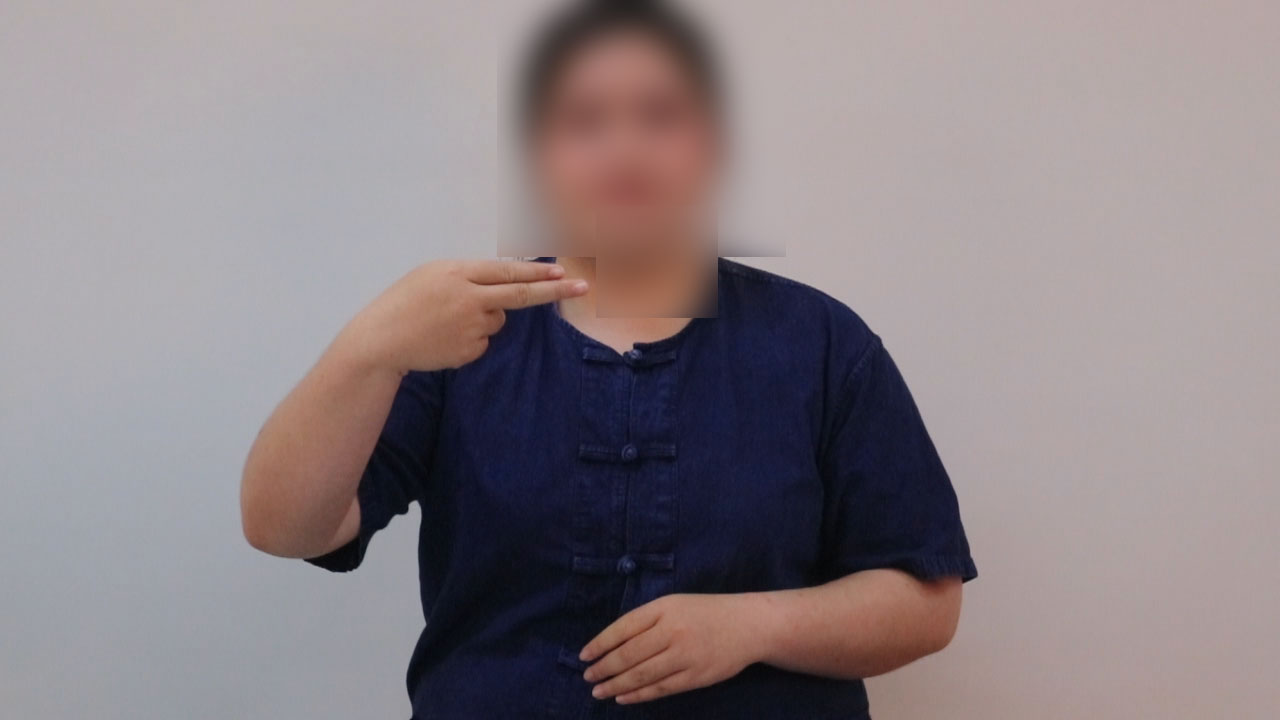hor: (334, 253, 605, 379)
